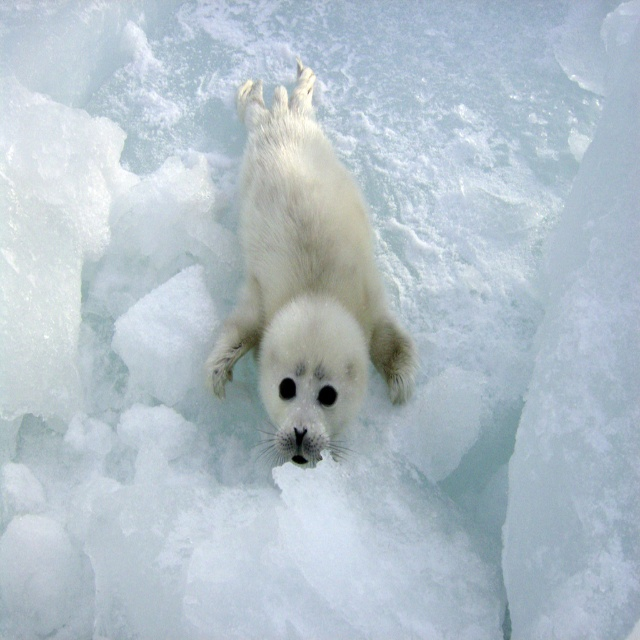Bear: (203, 56, 423, 471)
